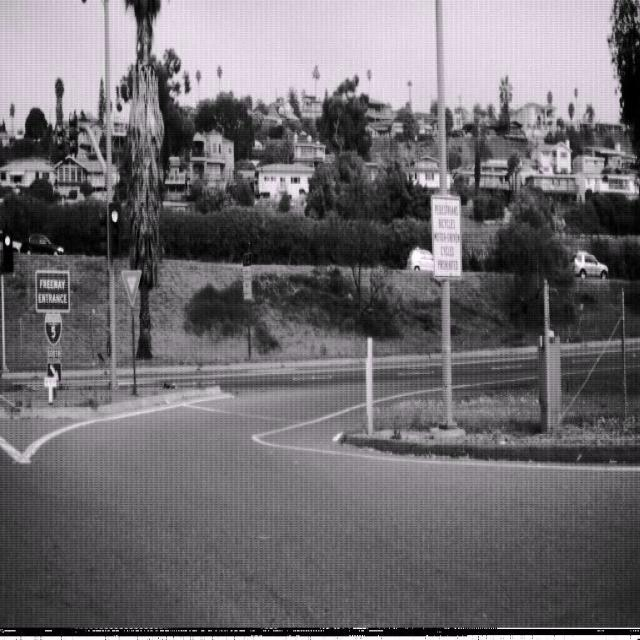yield: (119, 268, 142, 308)
